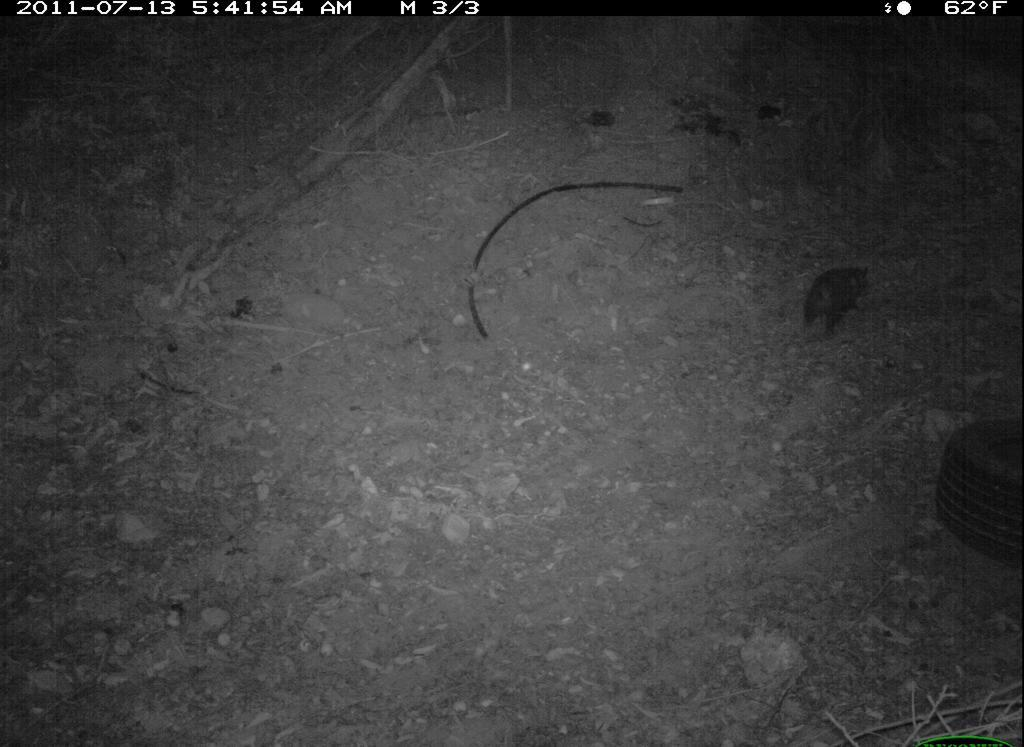opossum: (797, 249, 888, 351)
